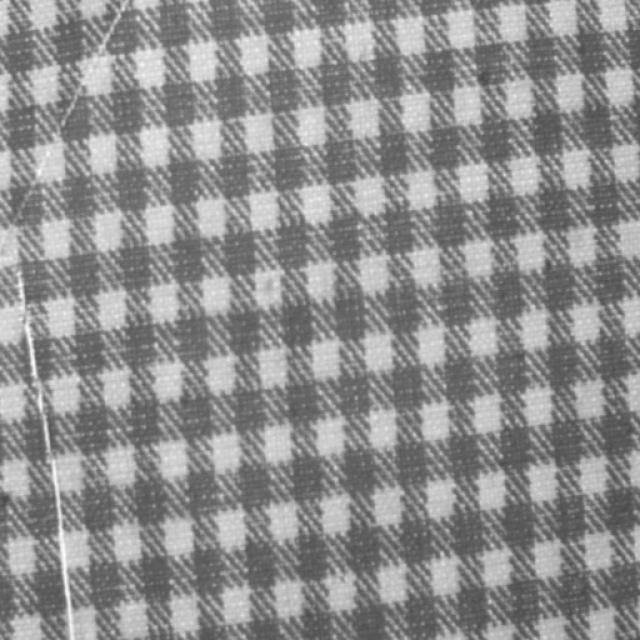Hole-Defect: (4, 0, 132, 639)
